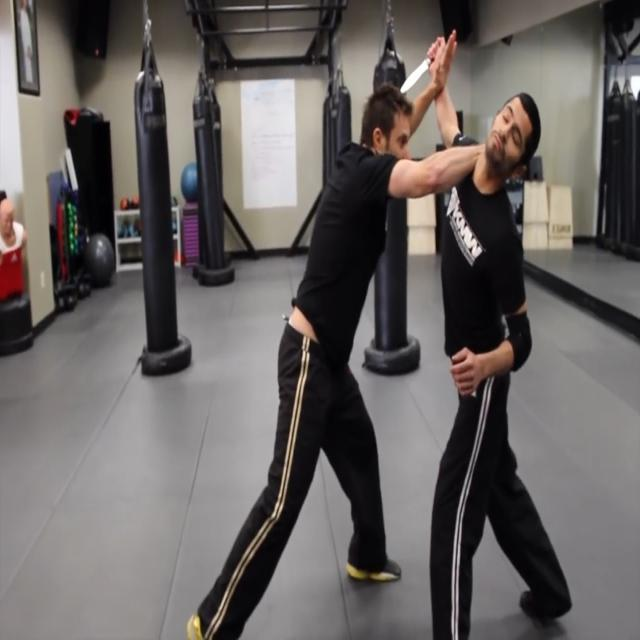knife: (396, 57, 438, 99)
